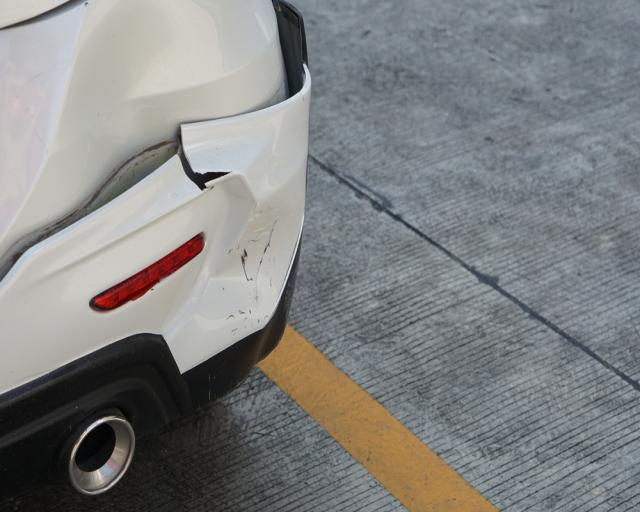crack: (177, 146, 233, 194)
dent: (43, 0, 188, 214), (199, 203, 301, 331)
